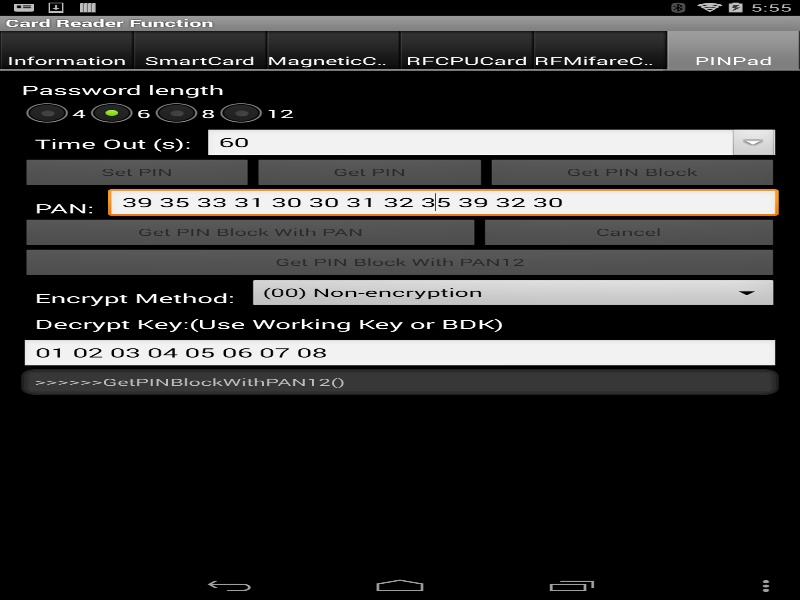Button: (21, 248, 778, 278), (21, 218, 480, 248), (480, 218, 778, 248), (486, 158, 778, 188), (253, 158, 486, 188), (21, 158, 253, 188), (728, 128, 778, 158)
Input: (21, 339, 778, 369), (108, 188, 778, 218), (204, 128, 778, 158)
